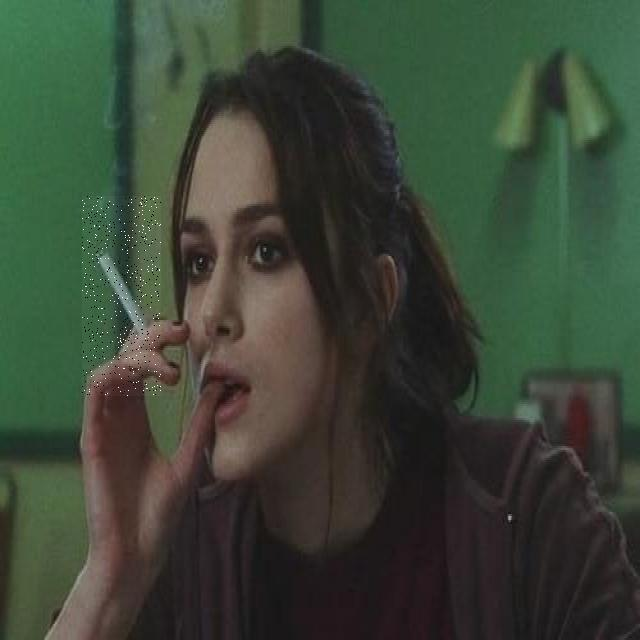smoking: (82, 196, 161, 396)
